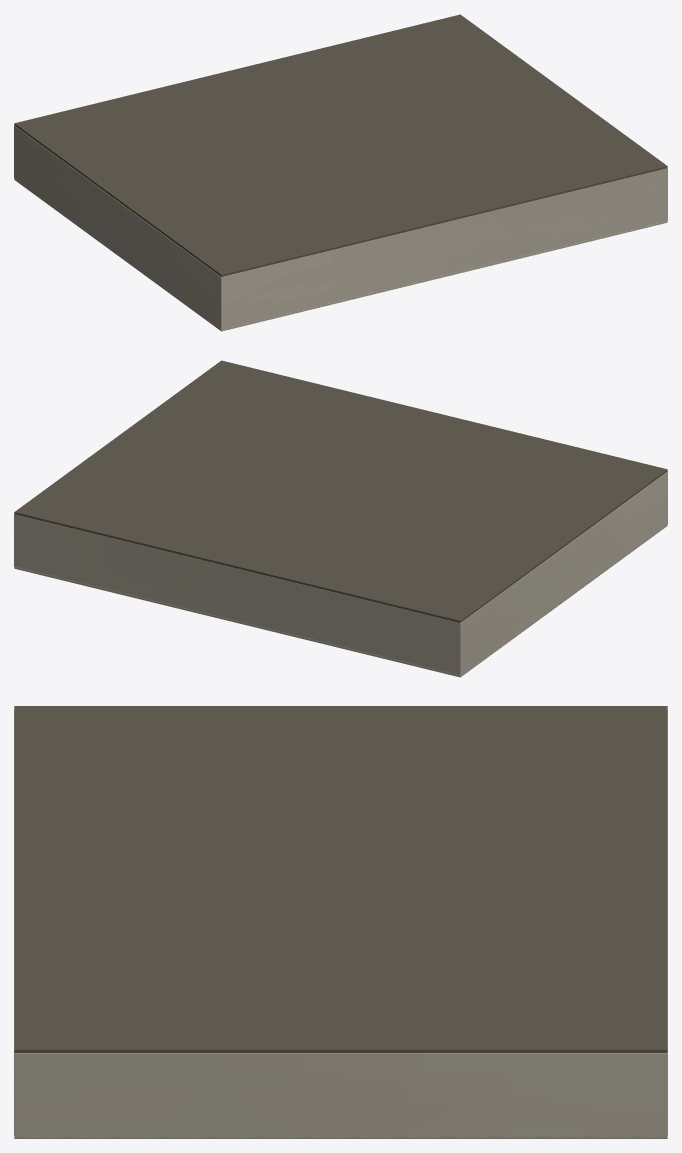
File: shell.glb
The picture shows the model from 3 angles, top to bottom: view 1: azimuth 30°, elevation 25°; view 2: azimuth 150°, elevation 25°; view 3: azimuth 270°, elevation 25°; orthographic projection. The views are drawn at different scales.
Visible parts, largest first — view 1: ARCH_Uninterrupted_Ceiling, STATIC_ARCHITECTURE_PBR_Limewash_chalk, STATIC_ARCHITECTURE_PBR_Honed_Limestone; view 2: ARCH_Uninterrupted_Ceiling, STATIC_ARCHITECTURE_PBR_Limewash_chalk, STATIC_ARCHITECTURE_PBR_Honed_Limestone; view 3: ARCH_Uninterrupted_Ceiling, STATIC_ARCHITECTURE_PBR_Limewash_chalk, STATIC_ARCHITECTURE_PBR_Honed_Limestone.
Part boxes in pixels (<box>): ARCH_Uninterrupted_Ceiling: <box>14,14,667,276</box>; STATIC_ARCHITECTURE_PBR_Limewash_chalk: <box>14,125,667,329</box>; STATIC_ARCHITECTURE_PBR_Honed_Limestone: <box>14,178,667,331</box>; ARCH_Uninterrupted_Ceiling: <box>14,360,667,622</box>; STATIC_ARCHITECTURE_PBR_Limewash_chalk: <box>14,471,667,675</box>; STATIC_ARCHITECTURE_PBR_Honed_Limestone: <box>14,524,667,677</box>; ARCH_Uninterrupted_Ceiling: <box>14,706,667,1052</box>; STATIC_ARCHITECTURE_PBR_Limewash_chalk: <box>14,710,667,1135</box>; STATIC_ARCHITECTURE_PBR_Honed_Limestone: <box>14,1136,667,1138</box>.
Bounding box in the file's own units: 34.26 × 4.15 × 27.52.
8 materials, 2 textured.
